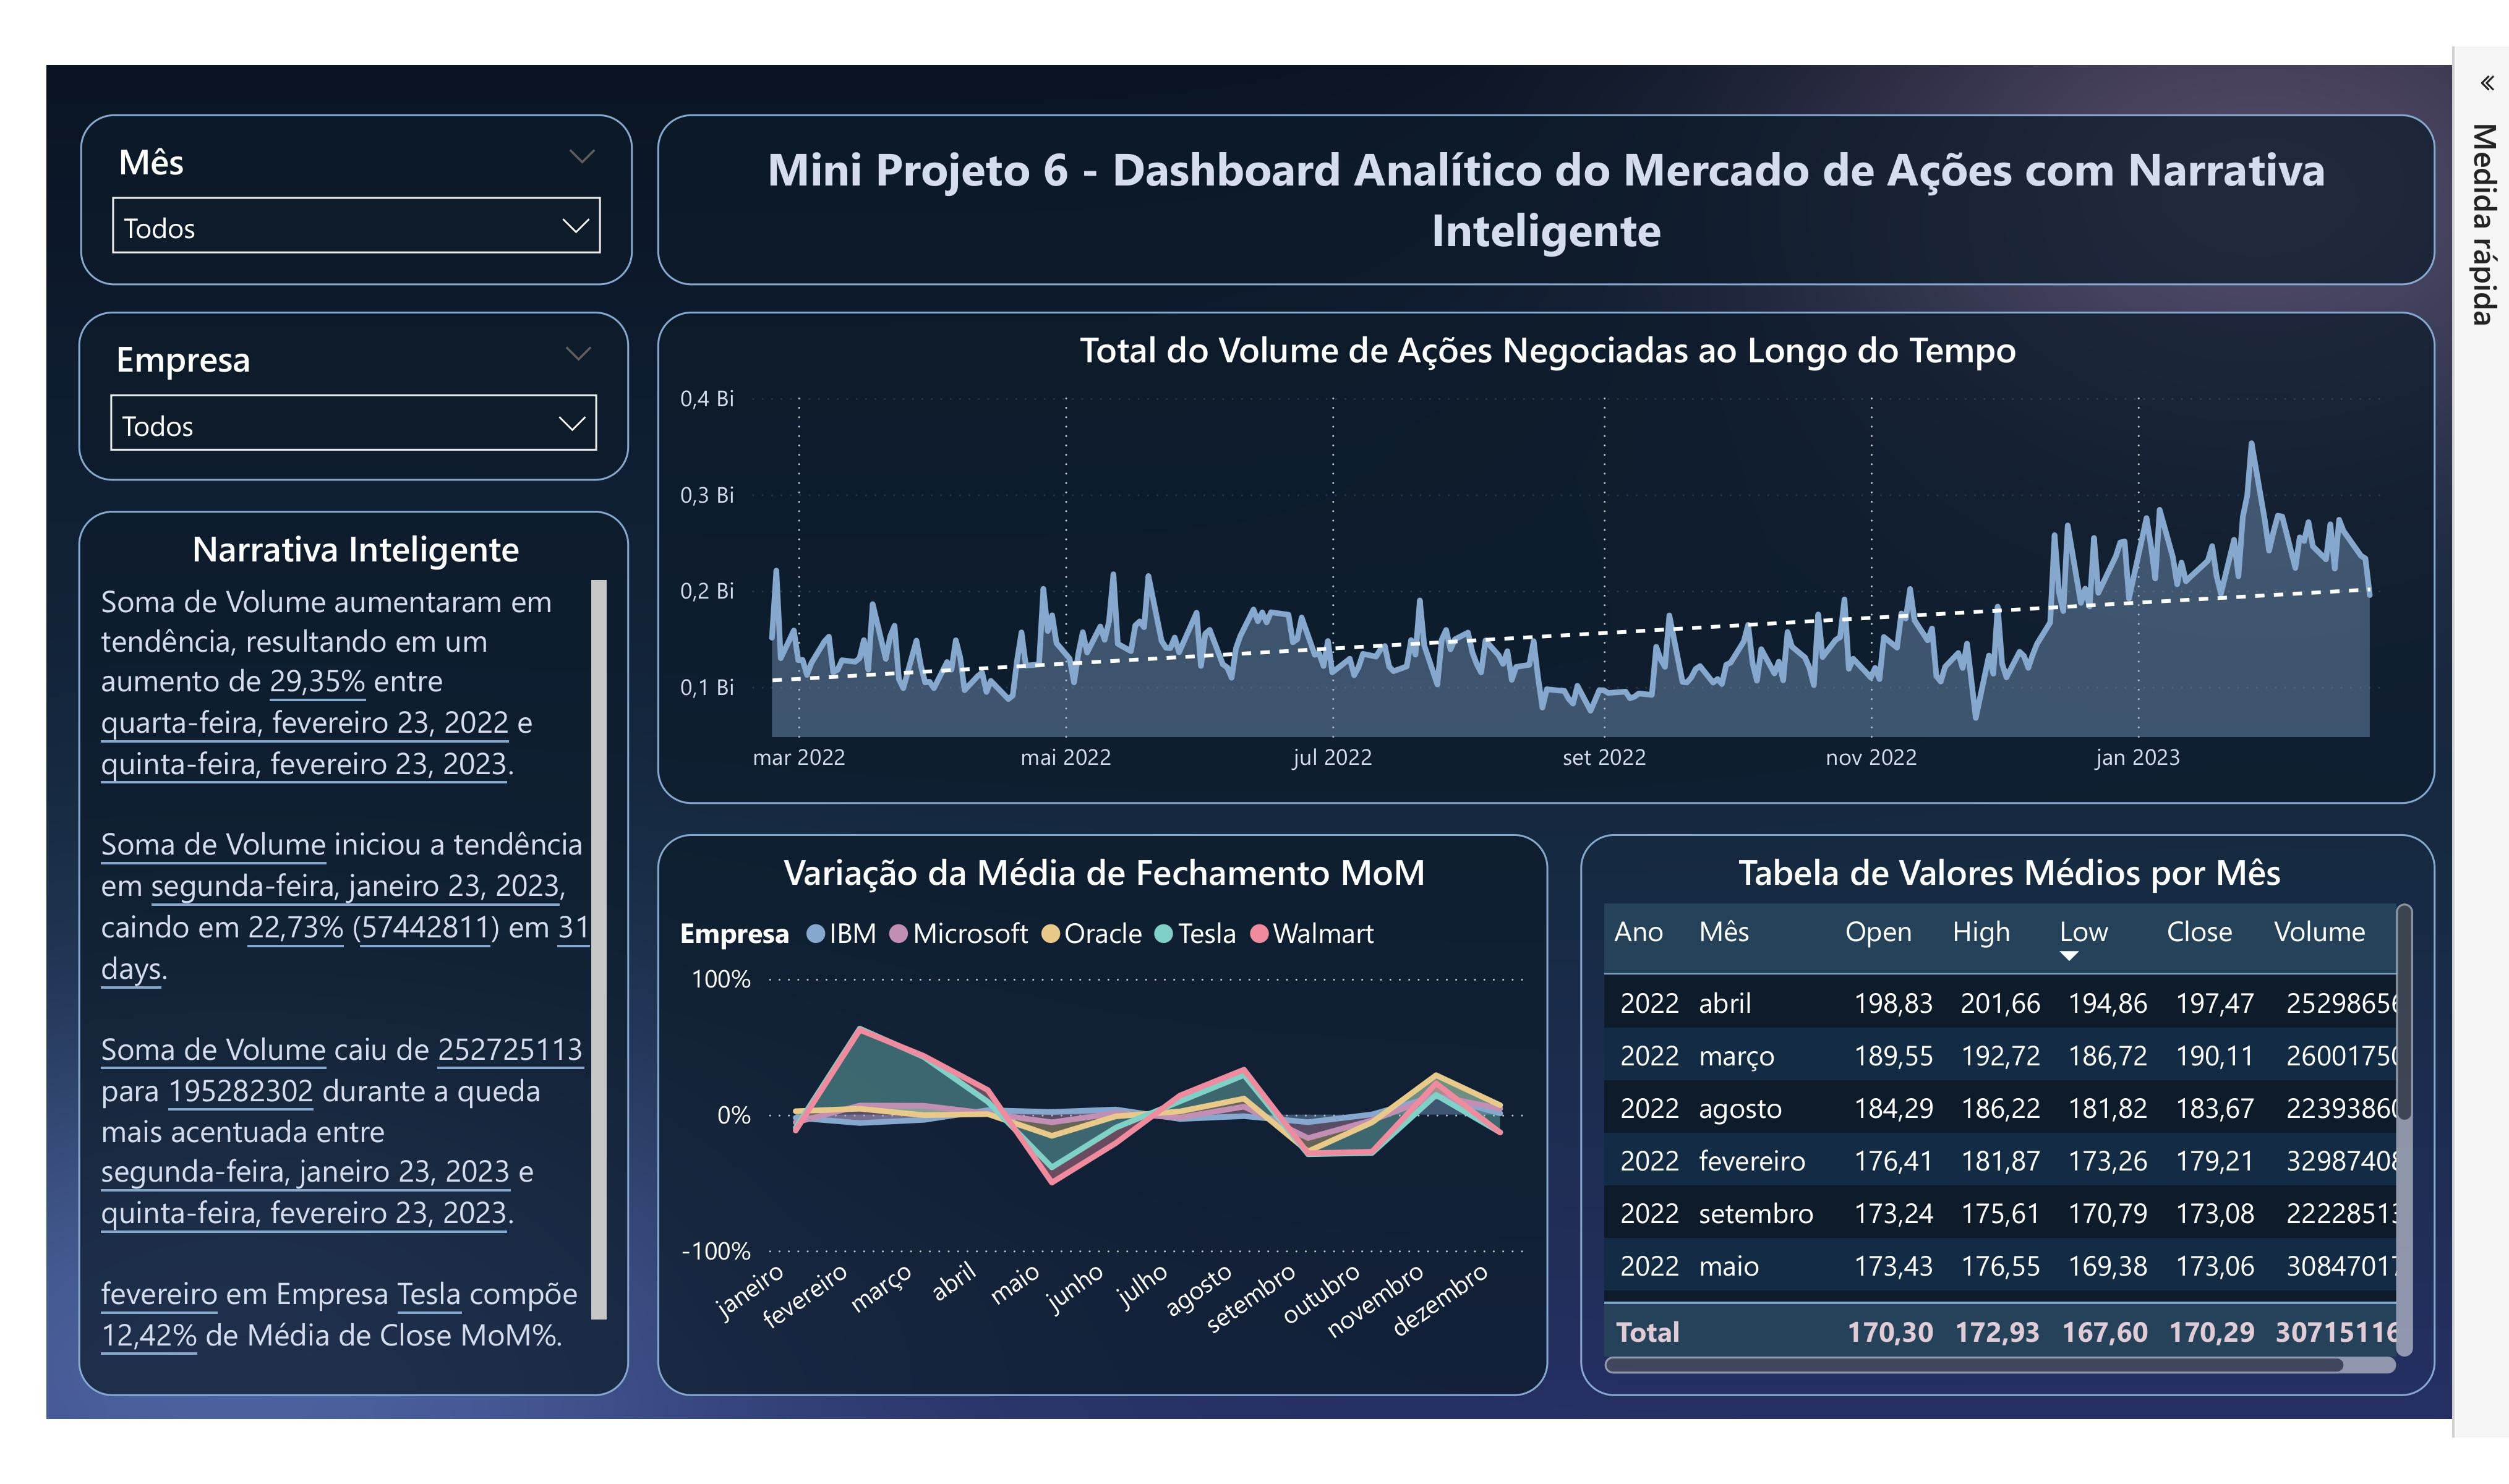

The page's visual inventory and layout, read from the dashboard file:
{"tool":"powerbi","page":{"name":"Página 1","canvas":[1280,720],"ordinal":0},"visuals":[{"type":"areaChart","title":"Total do Volume de Ações Negociadas ao Longo do Tempo","fields":{"Y":["Sum(StockMarket.Volume)"],"Category":["StockMarket.Data.Variation.Hierarquia de datas.Ano","StockMarket.Data.Variation.Hierarquia de datas.Trimestre","StockMarket.Data.Variation.Hierarquia de datas.Mês","StockMarket.Data.Variation.Hierarquia de datas.Dia"]},"box":[325.2,131.3,946,261.4],"z":0},{"type":"tableEx","title":"Tabela de Valores Médios por Mês","fields":{"Values":["StockMarket.Data.Variation.Hierarquia de datas.Ano","StockMarket.Data.Variation.Hierarquia de datas.Mês","Avg(StockMarket.Open)","Avg(StockMarket.High)","Avg(StockMarket.Low)","Avg(StockMarket.Close)","Avg(StockMarket.Volume)"]},"box":[816,408.6,455.2,299.4],"z":1000},{"type":"slicer","fields":{"Values":["StockMarket.Empresa"]},"box":[17.2,131.3,293.3,89.6],"z":2000},{"type":"stackedAreaChart","title":"Variação da Média de Fechamento MoM","fields":{"Category":["StockMarket.Data.Variation.Hierarquia de datas.Mês"],"Y":["StockMarket.Média de Close MoM%"],"Series":["StockMarket.Empresa"]},"box":[325.2,408.6,473.6,299.4],"z":3000},{"type":"slicer","fields":{"Values":["StockMarket.Data.Variation.Hierarquia de datas.Mês"]},"box":[18.4,25.8,293.3,90.8],"z":4000},{"type":"textbox","title":"Narrativa Inteligente","box":[17.2,236.8,293.3,471.2],"z":5000},{"type":"textbox","box":[325.2,25.8,946,90.8],"z":6000}]}

Visuals, with their boxes on the page's 1280x720 design canvas (x1, y1, x2, y2). These are canvas units, not pixel positions in the 2509x1484 screenshot, which may show the page scaled, cropped or inside an application window:
"Total do Volume de Ações Negociadas ao Longo do Tempo" areaChart: [325,131,1271,393]
"Tabela de Valores Médios por Mês" tableEx: [816,409,1271,708]
slicer - StockMarket.Empresa: [17,131,310,221]
"Variação da Média de Fechamento MoM" stackedAreaChart: [325,409,799,708]
slicer - StockMarket.Data.Variation.Hierarquia de datas.Mês: [18,26,312,117]
"Narrativa Inteligente" textbox: [17,237,310,708]
textbox: [325,26,1271,117]
